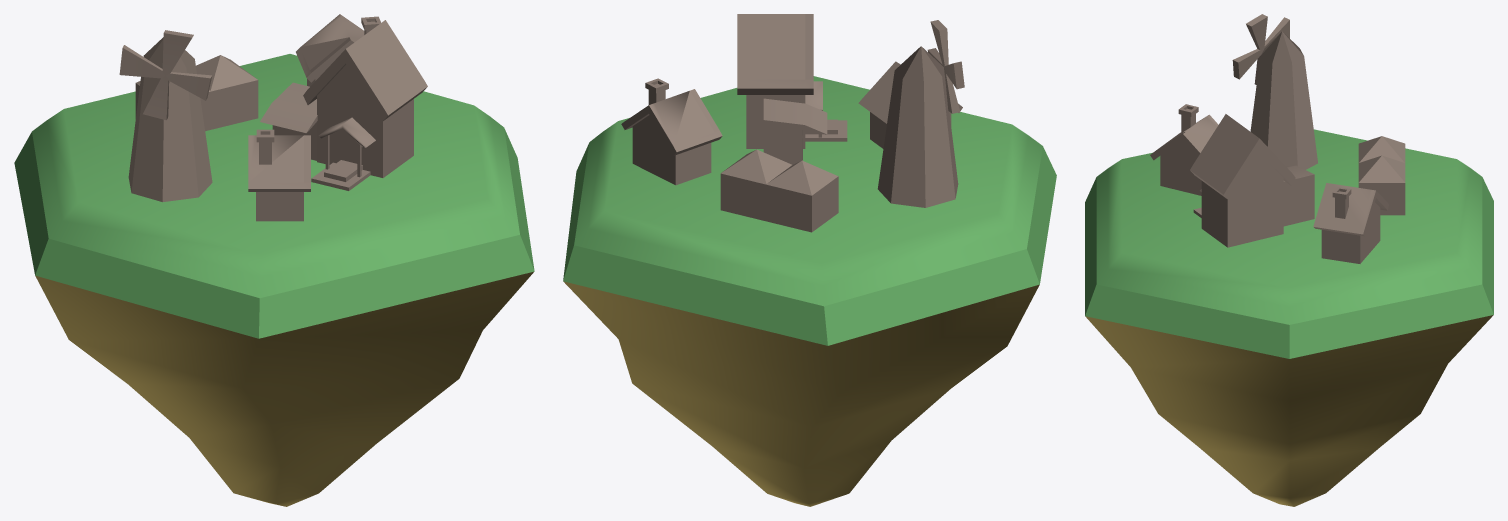
File: VillageCenter_Tile.fbx
3 renders of one model, left to right at view 1: azimuth 30°, elevation 25°; view 2: azimuth 150°, elevation 25°; view 3: azimuth 270°, elevation 25°, orthographic. The views are drawn at different scales.
Visible parts, largest first — view 1: polySurface15; view 2: polySurface15; view 3: polySurface15.
Boxes of the visible parts, x1,y1,x2,y2 form: polySurface15: [14, 14, 534, 506]; polySurface15: [563, 14, 1056, 506]; polySurface15: [1085, 14, 1493, 506].
Bounding box in the file's own units: 11.53 × 11.73 × 9.99.
